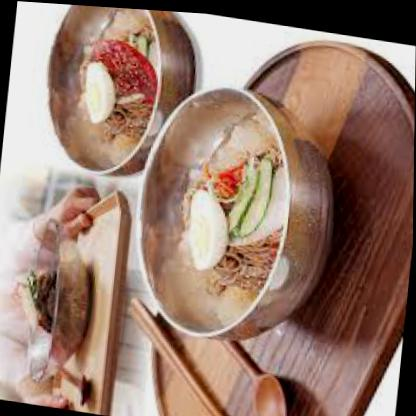naengMyeon: (131, 86, 334, 331), (34, 2, 191, 172)
